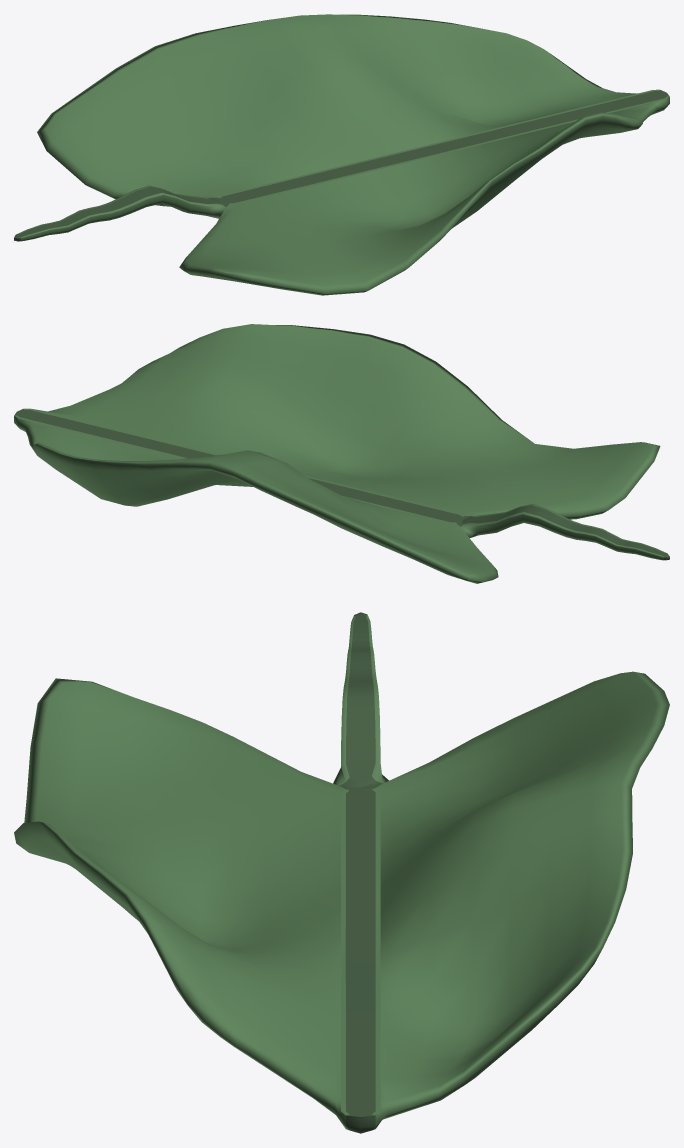
File: Leaf2.fbx
3 renders of one model, top to bottom at view 1: azimuth 30°, elevation 25°; view 2: azimuth 150°, elevation 25°; view 3: azimuth 270°, elevation 25°, orthographic. The views are drawn at different scales.
Visible parts, largest first — view 1: pCube22; view 2: pCube22; view 3: pCube22.
Boxes of the visible parts, bbox=[...] form: pCube22: bbox=[14, 14, 669, 295]; pCube22: bbox=[14, 324, 669, 583]; pCube22: bbox=[14, 612, 669, 1133].
Bounding box in the file's own units: 1.32 × 0.2282 × 0.7588.
